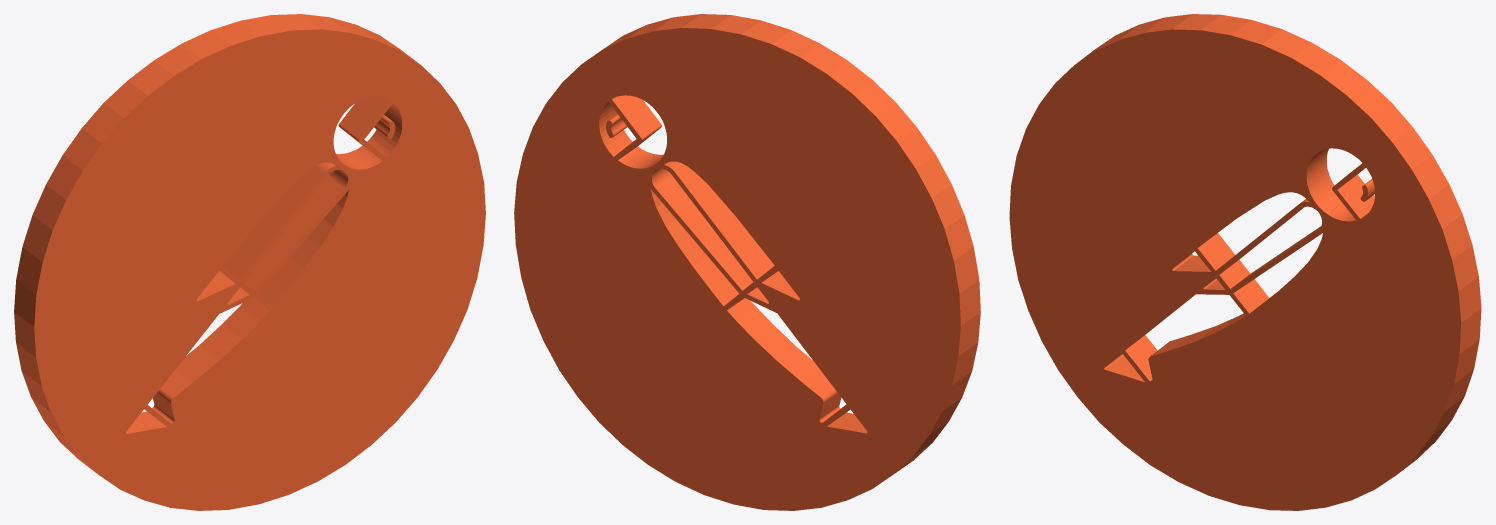
File: Postman_model.glb
3 views of the same model, side by side, from view 1: azimuth 30°, elevation 25°; view 2: azimuth 150°, elevation 25°; view 3: azimuth 330°, elevation 25° (orthographic).
Visible parts, largest first — view 1: Curve; view 2: Curve; view 3: Curve.
Part boxes in pixels (bbox=[...]): Curve: bbox=[14, 14, 485, 510]; Curve: bbox=[514, 14, 980, 510]; Curve: bbox=[1009, 14, 1481, 510].
Size of the model in its own units: 0.6774 by 0.678 by 0.0653.
